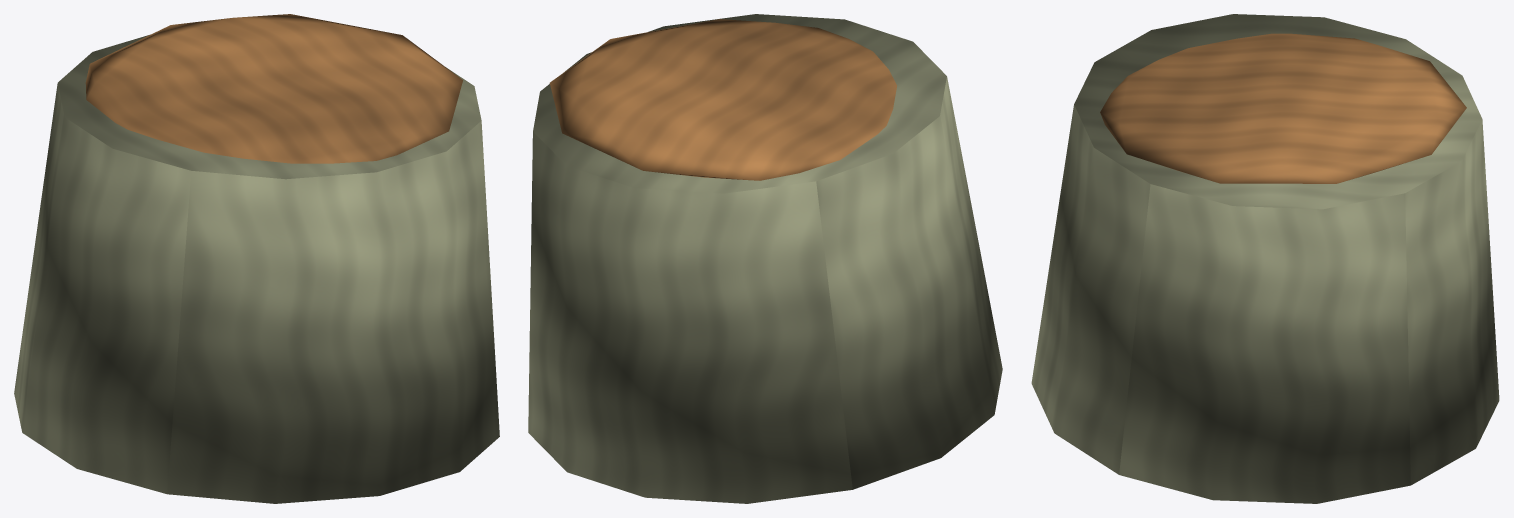
File: beech_stump.glb
The picture shows the model from 3 angles, left to right: view 1: azimuth 30°, elevation 25°; view 2: azimuth 150°, elevation 25°; view 3: azimuth 270°, elevation 25°; orthographic projection. The views are drawn at different scales.
Parts seen in each view (by area): view 1: beech_stump.001; view 2: beech_stump.001; view 3: beech_stump.001.
Boxes of the visible parts, <box> form: beech_stump.001: <box>14,14,499,503</box>; beech_stump.001: <box>528,14,1002,503</box>; beech_stump.001: <box>1031,14,1499,503</box>.
Size of the model in its own units: 1.07 by 0.8373 by 1.1.
1 material, 1 textured.
